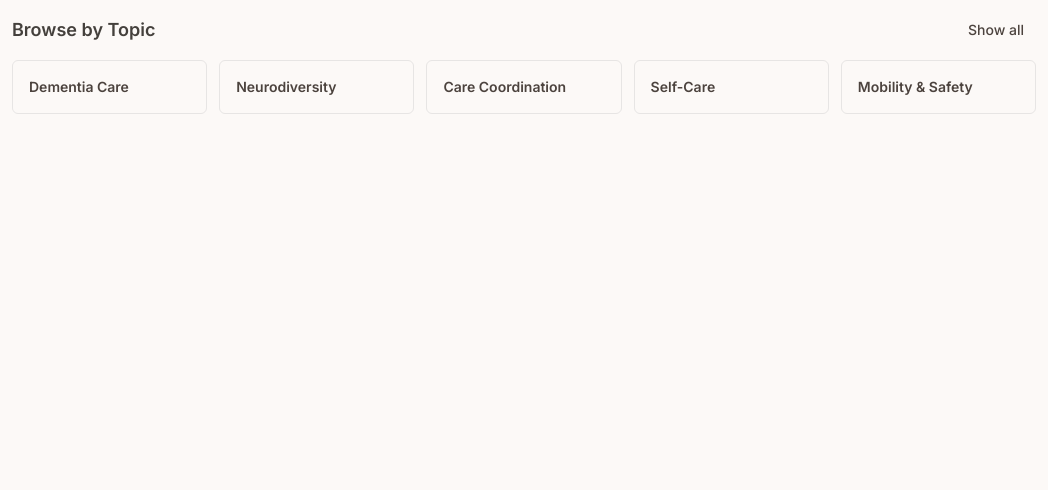
Test: TopicFilter › toggles expanded view
Click the button "Show all". click: (996, 30)
box: left=956, top=12, right=1036, bottom=48
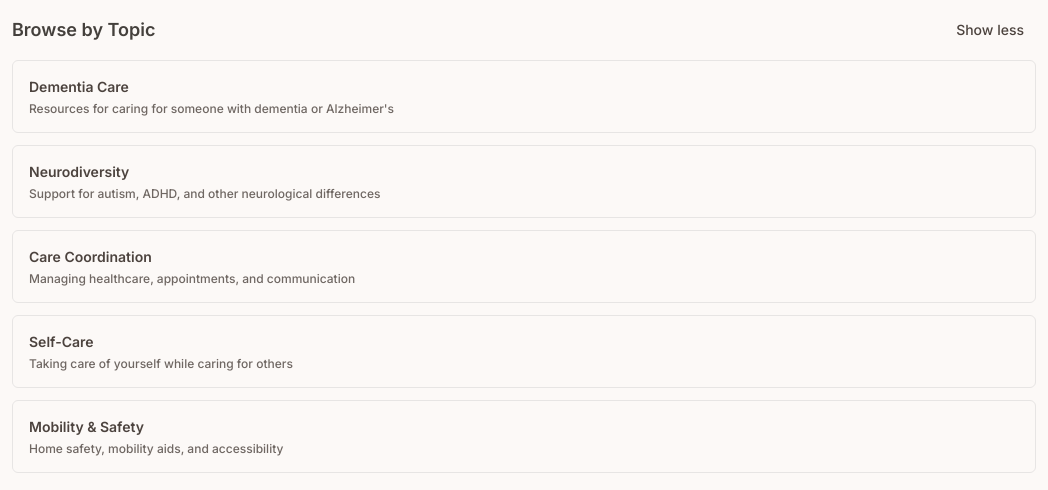
expect the button "Show less" is shown: met, box left=944, top=12, right=1036, bottom=48
expect the text "Resources for caring for someone with dementia" is shown: met, box left=29, top=101, right=394, bottom=116
